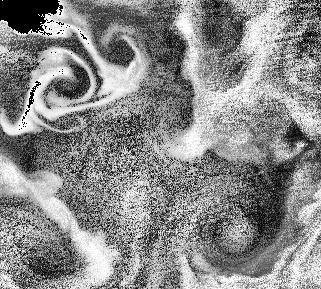AE: (180, 185, 281, 284), (34, 54, 95, 117)
CE: (97, 22, 155, 73)
